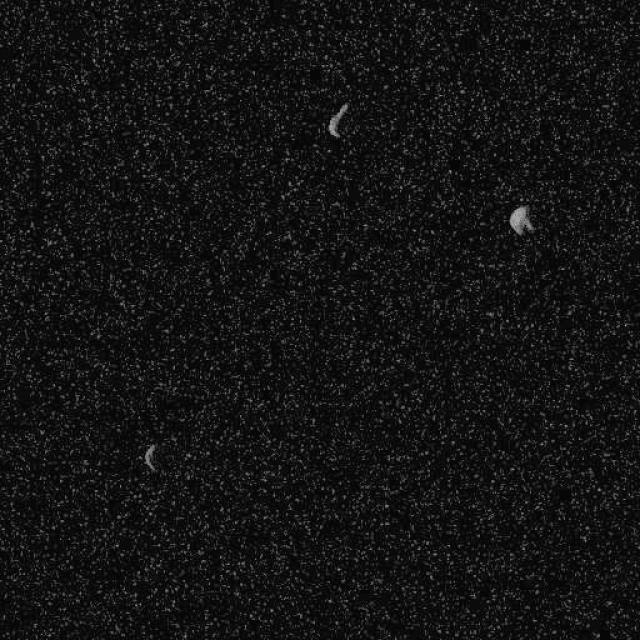D2: (507, 204, 535, 236), (326, 101, 349, 139), (142, 442, 158, 472)
